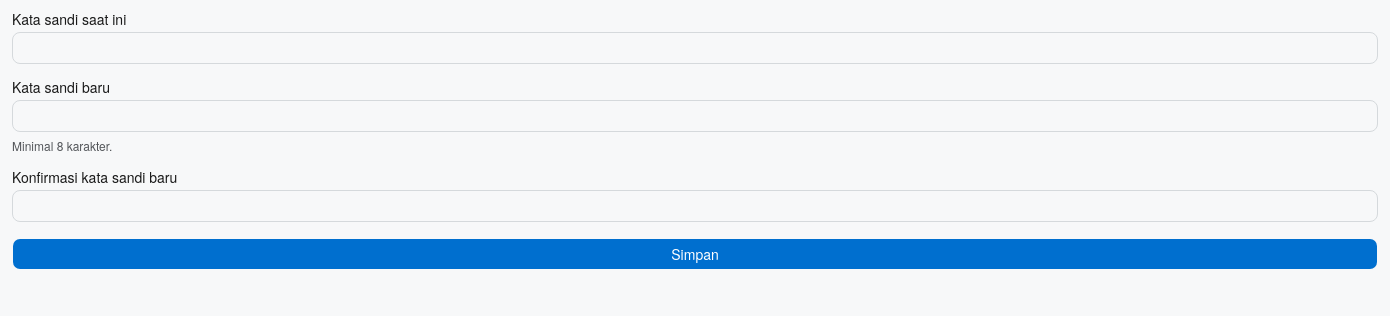
Test: shows a field error when the current password is wrong (401)
Step 1. Type "wrong" into the password field labelled "Kata sandi saat ini" → (695, 48), box [12,32,1378,64]
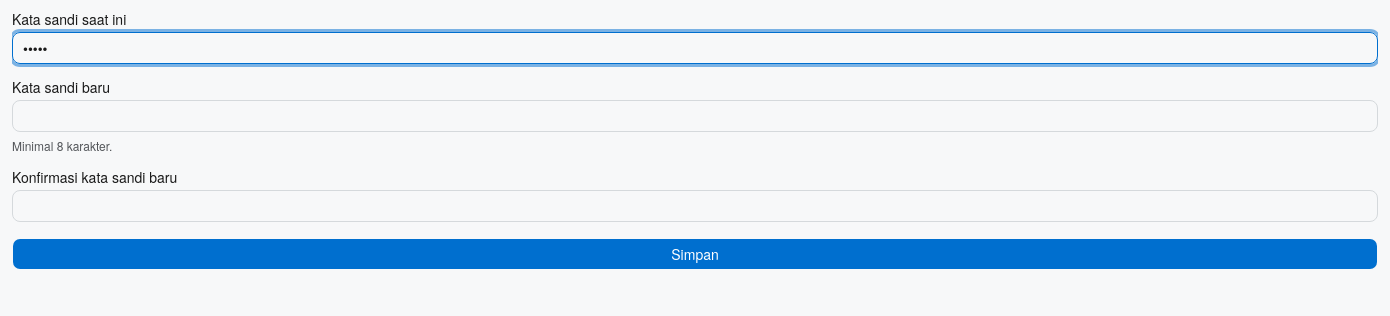
Step 2. Type "new-password-1" into the password field labelled "Kata sandi baru" → (695, 116), box [12,100,1378,132]
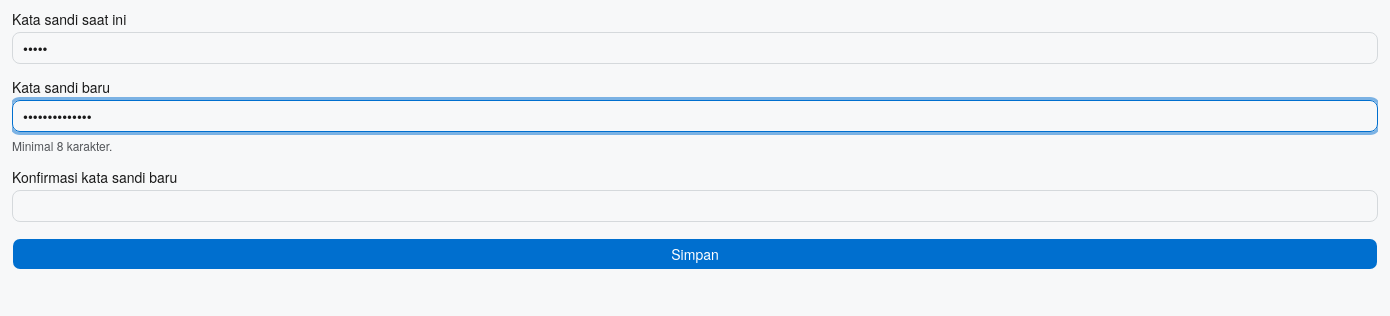
Step 3. Type "new-password-1" into the password field labelled "Konfirmasi kata sandi baru" → (695, 206), box [12,190,1378,222]
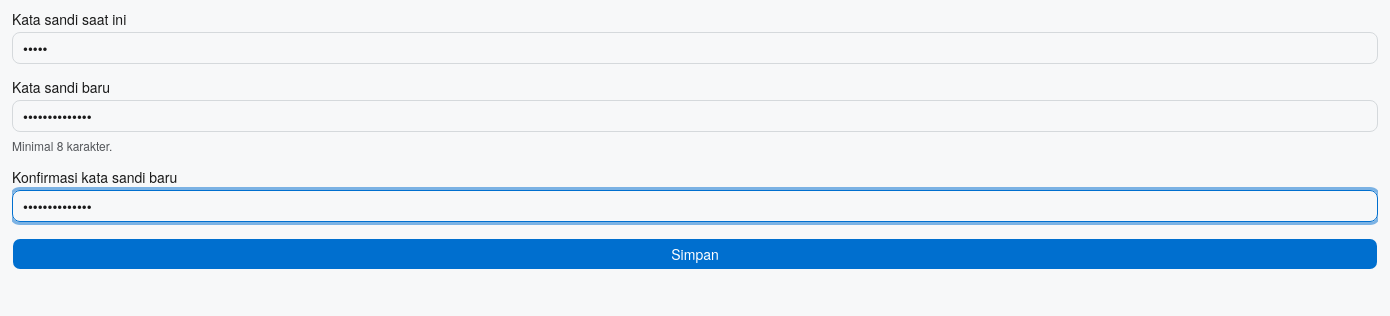
Step 4. Click the button "Simpan" → click(695, 254), box [12,238,1378,270]
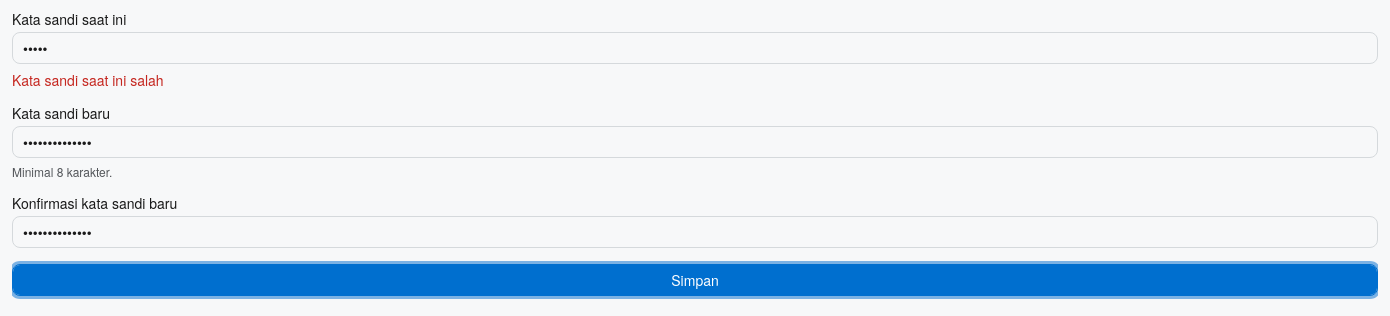
Expected: the text "Kata sandi saat ini salah" is shown, [12,70,164,90]
